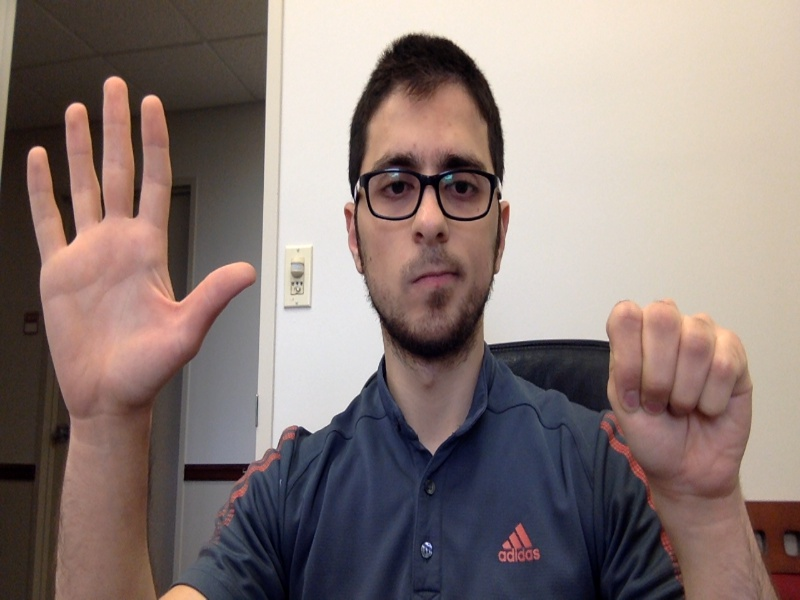0-hand: (608, 300, 753, 497)
5-hand: (26, 77, 254, 424)
